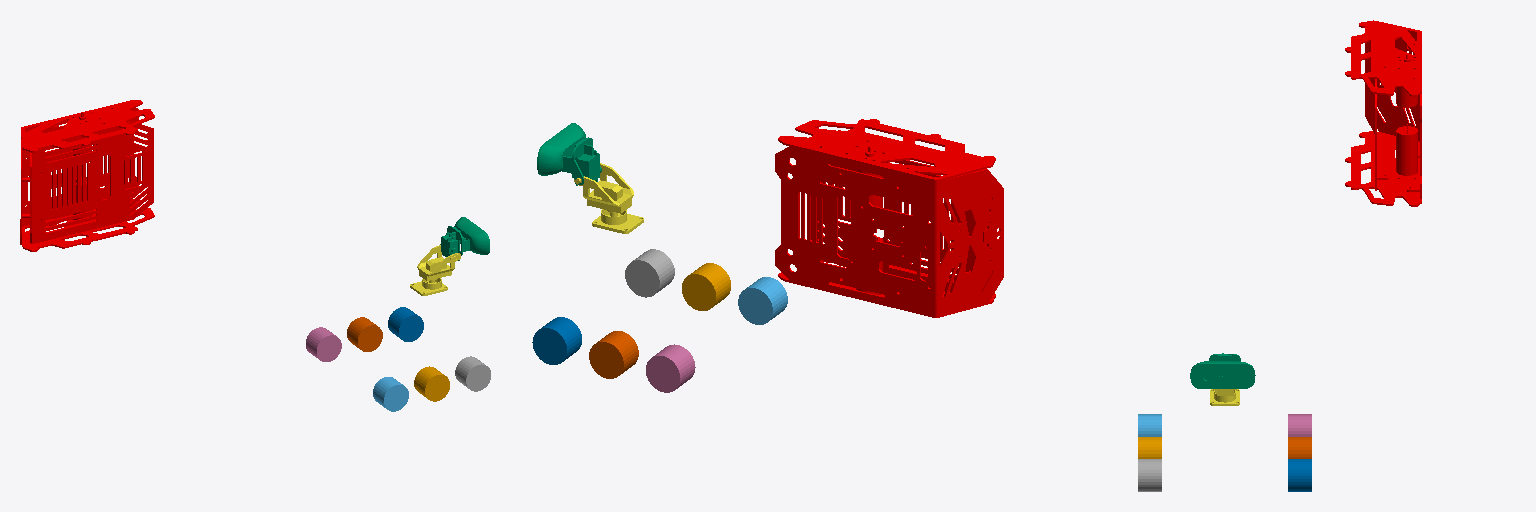
URDF robot description (robot):
<?xml version="1.0" ?>
<!-- =================================================================================== -->
<!-- |    This document was autogenerated by xacro from /catkin_ws/src/ros_tank/urdf/robot.xacro | -->
<!-- |    EDITING THIS FILE BY HAND IS NOT RECOMMENDED                                 | -->
<!-- =================================================================================== -->
<robot name="robot">
    <!-- Colors -->
    <gazebo reference="link_chassis">
        <material>Gazebo/Blue</material>
        <plugin name="gazebo_ros_control">
            <robotNamespace>/</robotNamespace>
        </plugin>
    </gazebo>
    <gazebo reference="link_front_left_wheel">
        <material>Gazebo/Black</material>
        <mu1>0</mu1>
        <mu2>0</mu2>
    </gazebo>
    <gazebo reference="link_rear_right_wheel">
        <material>Gazebo/Black</material>
        <mu1>0</mu1>
        <mu2>0</mu2>
    </gazebo>
    <gazebo reference="link_rear_left_wheel">
        <material>Gazebo/Black</material>
        <mu1>0</mu1>
        <mu2>0</mu2>
    </gazebo>
    <gazebo reference="link_front_right_wheel">
        <material>Gazebo/Black</material>
        <mu1>0</mu1>
        <mu2>0</mu2>
    </gazebo>
    <gazebo reference="link_middle_right_wheel">
        <material>Gazebo/Black</material>
        <mu1>0.1</mu1>
        <mu2>0.1</mu2>
    </gazebo>
    <gazebo reference="link_middle_left_wheel">
        <material>Gazebo/Black</material>
        <mu1>0.1</mu1>
        <mu2>0.1</mu2>
    </gazebo>
    <!-- Gazebo tags - Laser scan -->
    <gazebo reference="joint_laser_scan_chassis">
        <preserveFixedJoint>true</preserveFixedJoint>
    </gazebo>
    <gazebo reference="link_laser_scan">
        <material>Gazebo/DarkGrey</material>
    </gazebo>
    <!-- <gazebo reference="joint_chassis_left_front_wheel">
        <preserveFixedJoint>true</preserveFixedJoint>
    </gazebo>
    <gazebo reference="joint_chassis_left_rear_wheel">
        <preserveFixedJoint>true</preserveFixedJoint>
    </gazebo>
    <gazebo reference="joint_chassis_right_front_wheel">
        <preserveFixedJoint>true</preserveFixedJoint>
    </gazebo>
    <gazebo reference="joint_chassis_right_rear_wheel">
        <preserveFixedJoint>true</preserveFixedJoint>
    </gazebo>  
     -->
    <gazebo reference="link_laser_scan">
        <sensor name="head_hokuyo_sensor" type="ray">
            <pose>0 0 0 0 0 0</pose>
            <visualize>true</visualize>
            <update_rate>20</update_rate>
            <ray>
                <scan>
                    <horizontal>
                        <samples>720</samples>
                        <resolution>1</resolution>
                        <min_angle>-3.14</min_angle>
                        <max_angle>3.14</max_angle>
                    </horizontal>
                </scan>
                <range>
                    <min>0.20</min>
                    <max>12.0</max>
                    <resolution>0.01</resolution>
                </range>
                <noise>
                    <type>gaussian</type>
                    <mean>0.0</mean>
                    <stddev>0.01</stddev>
                </noise>
            </ray>
            <plugin filename="libgazebo_ros_laser.so" name="gazebo_ros_head_hokuyo_controller">
                <topicName>/laser/scan</topicName>
                <frameName>link_chassis</frameName>
            </plugin>
        </sensor>
    </gazebo>
    <!-- camera -->
    <gazebo reference="camera_link">
        <sensor name="camera_robot" type="camera">
            <camera>
                <pose>0 0 0 0 0 0</pose>
                <visualize>true</visualize>
                <update_rate>10</update_rate>
                <horizontal_fov>1.089</horizontal_fov>
                <image>
                    <format>R8G8B8</format>
                    <width>640</width>
                    <height>480</height>
                </image>
                <noise>
                    <type>gaussian</type>
                    <mean>0.0</mean>
                    <stddev>0.007</stddev>
                </noise>
            </camera>
            <plugin filename="libgazebo_ros_camera.so" name="camera_controller">
                <alwaysOn>true</alwaysOn>
                <updateRate>0.0</updateRate>
                <imageTopicName>image_raw</imageTopicName>
                <cameraName>camera</cameraName>
                <cameraInfoTopicName>camera_info</cameraInfoTopicName>
                <frameName>link_chassis</frameName>
            </plugin>
        </sensor>
    </gazebo>
    <gazebo>
        <plugin filename="libgazebo_ros_diff_drive.so" name="differential_drive_controller">
            <alwaysOn>true</alwaysOn>
            <updateRate>20</updateRate>
            <leftJoint>joint_chassis_left_middle_wheel</leftJoint>
            <rightJoint>joint_chassis_right_middle_wheel</rightJoint>
            <wheelSeparation>0.14</wheelSeparation>
            <wheelDiameter>0.04</wheelDiameter>
            <torque>10</torque>
            <wheelTorque>5</wheelTorque>
            <commandTopic>cmd_vel</commandTopic>
            <odometryTopic>odom</odometryTopic>
            <odometryFrame>odom</odometryFrame>
            <robotBaseFrame>link_chassis</robotBaseFrame>
            <publishWheelTF>false</publishWheelTF>
            <publishWheelJointState>false</publishWheelJointState>
            <publishOdomTF>true</publishOdomTF>
            <wheelAcceleration>0</wheelAcceleration>
            <rosDebugLevel>na</rosDebugLevel>
            <odometrySource>world</odometrySource>
            <publishTf>1</publishTf>
        </plugin>
    </gazebo>
    <link name="world" />
    <joint name="joint_world" type="fixed">
        <origin rpy="0 0 0" xyz="0 0 0" />
        <child link="link_chassis" />
        <parent link="world" />
    </joint>
    <!-- Laser scan -->
    <joint name="joint_laser_scan_chassis" type="fixed">
        <origin rpy="0 0 0" xyz="-0.01 0 0.11" />
        <child link="link_laser_scan" />
        <parent link="link_chassis" />
        <joint_properties damping="1.0" friction="1.0" />
    </joint>
    <link name="link_laser_scan">
        <inertial>
            <origin rpy="0 0 0" xyz="0 0 0" />
            <mass value="0.5" />
            <inertia ixx="0.000252666666667" ixy="0" ixz="0" iyy="0.000252666666667" iyz="0" izz="0.0005" />
        </inertial>
        <visual>
            <origin rpy="0 0 0" xyz="0 0 0" />
            <geometry>
                <mesh filename="package://ros_tank/meshes/lidarA1.stl" pose="0 0 0" scale="0.00111 0.00111 0.0011" />
                <!-- <cylinder radius="0.04" length="0.04"/> -->
            </geometry>
            <material name="Red">
                <color rgba="0.7 0.1 0.1 1" />
            </material>
        </visual>
        <collision>
            <origin rpy="0 0 0" xyz="0 0 0" />
            <geometry>
                <cylinder length="0.04" radius="0.04" />
            </geometry>
        </collision>
    </link>
    <!-- Camera -->
    <joint name="camera_joint" type="fixed">
        <parent link="camera_second_servo_link" />
        <child link="camera_link" />
        <origin rpy="0 0 0" xyz="0.03 0 0.017" />
    </joint>
    <link name="camera_link">
        <collision>
            <origin rpy="0 0 0" xyz="0 0 0" />
            <geometry>
                <box size="0.02 0.08 0.038" />
            </geometry>
        </collision>
        <visual>
            <geometry>
                <mesh filename="package://ros_tank/meshes/camera.stl" pose="0 0 0" scale="0.00111 0.00111 0.0011" />
                <!-- <box size="0.02 0.08 0.038"/> -->
            </geometry>
        </visual>
        <inertial>
            <mass value="0.1" />
            <origin xyz="0 0 0" rpy="0 0 0" />
            <inertia ixx="0.03" iyy="0.03" izz="0.03" ixy="0.0" ixz="0.0" iyz="0.0" />
        </inertial>
    </link>
    <!-- Link - chassis -->
    <link name="link_chassis">
        <collision>
            <origin rpy="0 0 0" xyz="0 0 -0.08" />
            <geometry>
                <box size="0.25 0.25 0.1" />
            </geometry>
        </collision>
        <visual>
            <geometry>
                <!-- <box size="0.22 0.14 0.25" /> -->
                <mesh filename="package://ros_tank/meshes/tank_body.stl" pose="0 0 0" scale="0.00111 0.00111 0.0011" />
            </geometry>
            <material name="Red">
                <color rgba="1 0 0 1" />
            </material>
        </visual>
        <inertial>
            <mass value="0.1" />
            <origin xyz="0 0 0" rpy="0 0 0" />
            <inertia ixx="0.03" iyy="0.03" izz="0.03" ixy="0.0" ixz="0.0" iyz="0.0" />
        </inertial>
    </link>
    <!-- Joint - chassis / left front wheel -->
    <joint name="joint_chassis_left_front_wheel" type="fixed">
        <origin rpy="0 0 0" xyz="0.065 0.077 -0.12" />
        <child link="link_front_left_wheel" />
        <parent link="link_chassis" />
        <axis rpy="0 0 0" xyz="0 1 0" />
        <limit effort="10000" velocity="1000" />
        <joint_properties damping="1.0" friction="1.0" />
    </joint>
    <!-- Link - left front wheel -->
    <link name="link_front_left_wheel">
        <inertial>
            <mass value="10" />
            <origin rpy="0 0 0" xyz="0 0 0.3" />
            <inertia ixx="1.5417" ixy="0" ixz="0" iyy="3.467" iyz="0" izz="4.742" />
        </inertial>
        <collision>
            <origin rpy="1.5707 0 0" xyz="0 -0.015 0" />
            <geometry>
                <cylinder length="0.03" radius="0.02" />
            </geometry>
        </collision>
        <visual>
            <origin rpy="1.5707 0 0" xyz="0 0.015 0" />
            <geometry>
                <cylinder length="0.03" radius="0.02" />
            </geometry>
        </visual>
    </link>
    <!-- Joint - chassis / left middle wheel -->
    <joint name="joint_chassis_left_middle_wheel" type="continuous">
        <origin rpy="0 0 0" xyz="0 0.077 -0.12" />
        <child link="link_middle_left_wheel" />
        <parent link="link_chassis" />
        <axis rpy="0 0 0" xyz="0 1 0" />
        <limit effort="10000" velocity="1000" />
        <joint_properties damping="1.0" friction="1.0" />
    </joint>
    <!-- Link - left middle wheel -->
    <link name="link_middle_left_wheel">
        <inertial>
            <mass value="10" />
            <origin rpy="0 0 0" xyz="0 0 0.3" />
            <inertia ixx="1.5417" ixy="0" ixz="0" iyy="3.467" iyz="0" izz="4.742" />
        </inertial>
        <collision>
            <origin rpy="1.5707 0 0" xyz="0 0.015 0" />
            <geometry>
                <cylinder length="0.03" radius="0.02" />
            </geometry>
        </collision>
        <visual>
            <origin rpy="1.5707 0 0" xyz="0 0.015 0" />
            <geometry>
                <cylinder length="0.03" radius="0.02" />
            </geometry>
        </visual>
    </link>
    <!-- Joint - chassis / left rear wheel -->
    <joint name="joint_chassis_left_rear_wheel" type="fixed">
        <origin rpy="0 0 0" xyz="-0.065 0.077 -0.12" />
        <child link="link_rear_left_wheel" />
        <parent link="link_chassis" />
        <axis rpy="0 0 0" xyz="0 1 0" />
        <limit effort="10000" velocity="1000" />
        <joint_properties damping="1.0" friction="1.0" />
    </joint>
    <!-- Link - left rear wheel -->
    <link name="link_rear_left_wheel">
        <inertial>
            <mass value="10" />
            <origin rpy="0 0 0" xyz="0 0 0.3" />
            <inertia ixx="1.5417" ixy="0" ixz="0" iyy="3.467" iyz="0" izz="4.742" />
        </inertial>
        <collision>
            <origin rpy="1.5707 0 0" xyz="0 0.015 0" />
            <geometry>
                <cylinder length="0.03" radius="0.02" />
            </geometry>
        </collision>
        <visual>
            <origin rpy="1.5707 0 0" xyz="0 0.015 0" />
            <geometry>
                <cylinder length="0.03" radius="0.02" />
            </geometry>
        </visual>
    </link>
    <!-- Joint - chassis / right front wheel -->
    <joint name="joint_chassis_right_front_wheel" type="fixed">
        <origin rpy="0 0 0" xyz="0.065 -0.077 -0.12" />
        <child link="link_front_right_wheel" />
        <parent link="link_chassis" />
        <axis rpy="0 0 0" xyz="0 1 0" />
        <limit effort="10000" velocity="1000" />
        <joint_properties damping="1.0" friction="1.0" />
    </joint>
    <!-- Link - right front wheel -->
    <link name="link_front_right_wheel">
        <inertial>
            <mass value="10" />
            <origin rpy="0 0 0" xyz="0 0 0.3" />
            <inertia ixx="1.5417" ixy="0" ixz="0" iyy="3.467" iyz="0" izz="4.742" />
        </inertial>
        <collision>
            <origin rpy="1.5707 0 0" xyz="0 -0.015 0" />
            <geometry>
                <cylinder length="0.03" radius="0.02" />
            </geometry>
        </collision>
        <visual>
            <origin rpy="1.5707 0 0" xyz="0 -0.015 0" />
            <geometry>
                <cylinder length="0.03" radius="0.02" />
            </geometry>
        </visual>
    </link>
    <!-- Joint - chassis / right middle wheel -->
    <joint name="joint_chassis_right_middle_wheel" type="continuous">
        <origin rpy="0 0 0" xyz="0 -0.077 -0.12" />
        <child link="link_middle_right_wheel" />
        <parent link="link_chassis" />
        <axis rpy="0 0 0" xyz="0 1 0" />
        <limit effort="10000" velocity="1000" />
        <joint_properties damping="1.0" friction="1.0" />
    </joint>
    <!-- Link - right middle wheel -->
    <link name="link_middle_right_wheel">
        <inertial>
            <mass value="10" />
            <origin rpy="0 0 0" xyz="0 0 0.3" />
            <inertia ixx="1.5417" ixy="0" ixz="0" iyy="3.467" iyz="0" izz="4.742" />
        </inertial>
        <collision>
            <origin rpy="1.5707 0 0" xyz="0 -0.015 0" />
            <geometry>
                <cylinder length="0.03" radius="0.02" />
            </geometry>
        </collision>
        <visual>
            <origin rpy="1.5707 0 0" xyz="0 -0.015 0" />
            <geometry>
                <cylinder length="0.03" radius="0.02" />
            </geometry>
        </visual>
    </link>
    <!-- Joint - chassis / right rear wheel -->
    <joint name="joint_chassis_right_rear_wheel" type="fixed">
        <origin rpy="0 0 0" xyz="-0.065 -0.077 -0.12" />
        <child link="link_rear_right_wheel" />
        <parent link="link_chassis" />
        <axis rpy="0 0 0" xyz="0 1 0" />
        <limit effort="10000" velocity="1000" />
        <joint_properties damping="1.0" friction="1.0" />
    </joint>
    <!-- Link - right rear wheel -->
    <link name="link_rear_right_wheel">
        <inertial>
            <mass value="10" />
            <origin rpy="0 0 0" xyz="0 0 0.3" />
            <inertia ixx="1.5417" ixy="0" ixz="0" iyy="3.467" iyz="0" izz="4.742" />
        </inertial>
        <collision>
            <origin rpy="1.5707 0 0" xyz="0 -0.015 0" />
            <geometry>
                <cylinder length="0.03" radius="0.02" />
            </geometry>
        </collision>
        <visual>
            <origin rpy="1.5707 0 0" xyz="0 -0.015 0" />
            <geometry>
                <cylinder length="0.03" radius="0.02" />
            </geometry>
        </visual>
    </link>
    <!-- Joint - camera second servo -->
    <joint name="camera_servo_second_joint" type="revolute">
        <origin rpy="0 0 0" xyz="0.03 -0.005 0.02" />
        <parent link="camera_servo_first_link" />
        <child link="camera_second_servo_link" />
        <axis xyz="0 1 0" />
        <limit effort="100" lower="-1.15" upper="1.4" velocity="100" />
    </joint>
    <!-- Link - camera second servo -->
    <link name="camera_second_servo_link">
        <collision>
            <origin rpy="0 0 0" xyz="0 0 0.01" />
            <geometry>
                <box size="0.02 0.03 0.03" />
            </geometry>
        </collision>
        <visual>
            <origin rpy="0 0 0" xyz="0 0 0" />
            <geometry>
                <!-- <box size="0.02 0.03 0.03" /> -->
                <mesh filename="package://ros_tank/meshes/camera_servo_2.stl" pose="0 0 0" scale="0.0011 0.00111 0.0011" />
            </geometry>
            <material name="orange" />
        </visual>
        <inertial>
            <mass value="0.1" />
            <origin xyz="0 0 0" rpy="0 0 0" />
            <inertia ixx="0.03" iyy="0.03" izz="0.03" ixy="0.0" ixz="0.0" iyz="0.0" />
        </inertial>
    </link>
    <!-- Joint - camera first servo -->
    <joint name="camera_servo_first_joint" type="revolute">
        <origin rpy="0 0 0" xyz="0.053 0 0" />
        <parent link="link_chassis" />
        <child link="camera_servo_first_link" />
        <axis xyz="0 0 1" />
        <limit effort="100" lower="-1.15" upper="1.4" velocity="100" />
    </joint>
    <!-- Link - camera first servo -->
    <link name="camera_servo_first_link">
        <collision>
            <origin rpy="0 0 0" xyz="0 0 -0.005" />
            <geometry>
                <box size="0.03 0.04 0.03" />
            </geometry>
        </collision>
        <visual>
            <origin rpy="0 0 0" xyz="0 0 0" />
            <geometry>
                <mesh filename="package://ros_tank/meshes/camera_servo_1.stl" pose="0 0 0" scale="0.0011 0.00111 0.0011" />
                <!-- <box size="0.03 0.04 0.05" /> -->
            </geometry>
            <material name="orange" />
        </visual>
        <inertial>
            <mass value="0.1" />
            <origin xyz="0 0 0" rpy="0 0 0" />
            <inertia ixx="0.03" iyy="0.03" izz="0.03" ixy="0.0" ixz="0.0" iyz="0.0" />
        </inertial>
    </link>
    <transmission name="trans_joint_chassis_left_middle_wheel">
        <type>transmission_interface/SimpleTransmission</type>
        <joint name="joint_chassis_left_middle_wheel">
            <hardwareInterface>hardware_interface/EffortJointInterface</hardwareInterface>
        </joint>
        <actuator name="joint_chassis_left_middle_wheel_motor">
            <hardwareInterface>hardware_interface/EffortJointInterface</hardwareInterface>
            <mechanicalReduction>1</mechanicalReduction>
        </actuator>
    </transmission>
    <transmission name="trans_joint_chassis_right_middle_wheel">
        <type>transmission_interface/SimpleTransmission</type>
        <joint name="joint_chassis_right_middle_wheel">
            <hardwareInterface>hardware_interface/EffortJointInterface</hardwareInterface>
        </joint>
        <actuator name="joint_chassis_right_middle_wheel_motor">
            <hardwareInterface>hardware_interface/EffortJointInterface</hardwareInterface>
            <mechanicalReduction>1</mechanicalReduction>
        </actuator>
    </transmission>
    <transmission name="trans_camera_servo_second_joint">
        <type>transmission_interface/SimpleTransmission</type>
        <joint name="camera_servo_second_joint">
            <hardwareInterface>hardware_interface/EffortJointInterface</hardwareInterface>
        </joint>
        <actuator name="camera_servo_second_joint_motor">
            <hardwareInterface>hardware_interface/EffortJointInterface</hardwareInterface>
            <mechanicalReduction>1</mechanicalReduction>
        </actuator>
    </transmission>
    <transmission name="trans_camera_servo_first_joint">
        <type>transmission_interface/SimpleTransmission</type>
        <joint name="camera_servo_first_joint">
            <hardwareInterface>hardware_interface/EffortJointInterface</hardwareInterface>
        </joint>
        <actuator name="camera_servo_first_joint_motor">
            <hardwareInterface>hardware_interface/EffortJointInterface</hardwareInterface>
            <mechanicalReduction>1</mechanicalReduction>
        </actuator>
    </transmission>
</robot>

--- Facts derived from the render (not from the file) ---
Views: 3 orthographic renders of the robot side by side, from view 1: azimuth 30°, elevation 25°; view 2: azimuth 150°, elevation 25°; view 3: azimuth 270°, elevation 25°.
Robot: robot — 12 links, 11 joints (2 revolute, 2 continuous, 7 fixed); root link world; default pose: every joint at zero.
Links seen in each view (by area): view 1: link_chassis, camera_servo_first_link, link_front_right_wheel, link_rear_left_wheel, link_front_left_wheel, link_middle_left_wheel, link_middle_right_wheel, link_rear_right_wheel, camera_link, camera_second_servo_link; view 2: link_chassis, camera_servo_first_link, link_rear_right_wheel, link_middle_left_wheel, link_front_right_wheel, link_rear_left_wheel, link_middle_right_wheel, link_front_left_wheel, camera_link, camera_second_servo_link; view 3: link_chassis, camera_link, link_front_left_wheel, link_front_right_wheel, link_rear_left_wheel, link_rear_right_wheel, link_middle_left_wheel, link_middle_right_wheel.
Boxes of the visible links, x1,y1,x2,y2 form: link_chassis: (20,100,154,251); camera_servo_first_link: (410,245,460,295); link_front_right_wheel: (455,356,490,391); link_rear_left_wheel: (306,327,341,361); link_front_left_wheel: (388,307,423,341); link_middle_left_wheel: (347,317,382,351); link_middle_right_wheel: (414,366,449,401); link_rear_right_wheel: (373,377,408,411); camera_link: (454,217,489,254); camera_second_servo_link: (440,226,469,260); link_chassis: (775,119,1003,317); camera_servo_first_link: (574,163,643,233); link_rear_right_wheel: (738,277,787,324); link_middle_left_wheel: (589,331,638,378); link_front_right_wheel: (625,249,674,297); link_rear_left_wheel: (646,344,695,392); link_middle_right_wheel: (682,263,730,310); link_front_left_wheel: (532,317,581,364); camera_link: (537,123,585,175); camera_second_servo_link: (562,137,601,185); link_chassis: (1345,20,1421,206); camera_link: (1190,361,1255,388); link_front_left_wheel: (1288,459,1311,491); link_front_right_wheel: (1138,459,1161,491); link_rear_left_wheel: (1288,414,1311,436); link_rear_right_wheel: (1138,414,1161,436); link_middle_left_wheel: (1288,437,1311,458); link_middle_right_wheel: (1138,437,1161,458).
Bounding box of the posed robot: 0.6155 × 0.3489 × 0.3876 m (x, y, z).
Meshes: 5 distinct files referenced, 4 mesh visuals loaded (4 binary STL); not drawn: 1 (reference not matched to a file when rendering).
